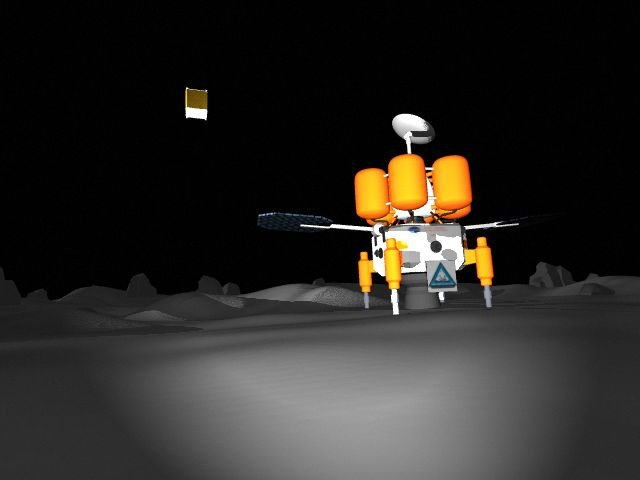homebase: (254, 111, 542, 317)
